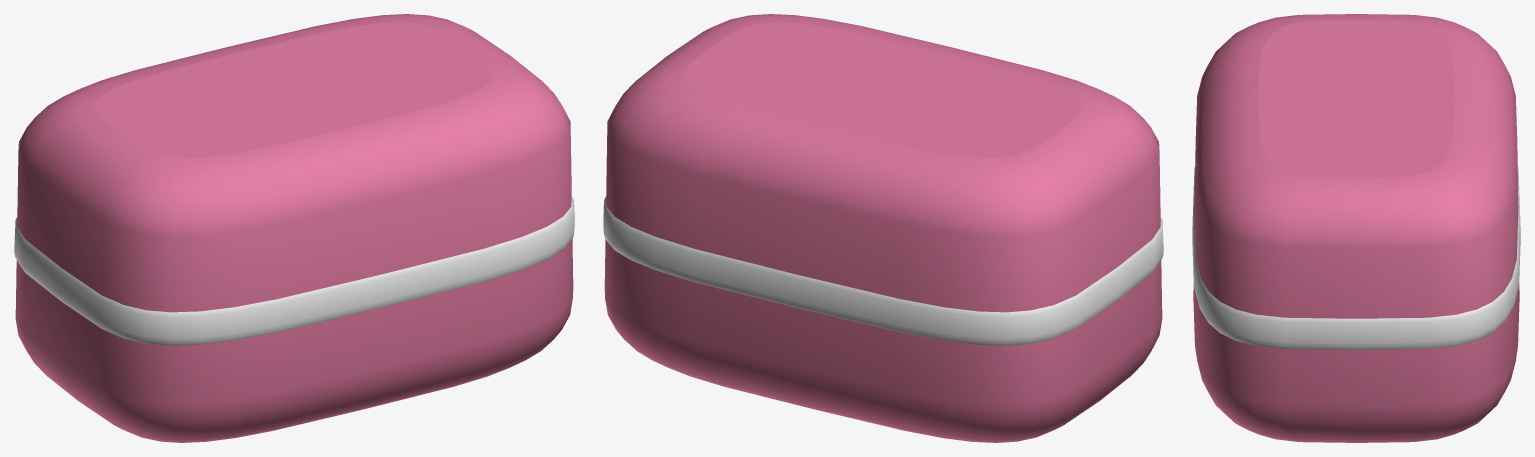
The model's file is absorventes_pacote.dae.
3 views of the same model, side by side, from view 1: azimuth 30°, elevation 25°; view 2: azimuth 150°, elevation 25°; view 3: azimuth 270°, elevation 25° (orthographic). The views are drawn at different scales.
Visible parts, largest first — view 1: Absorventes - pacote (×2); view 2: Absorventes - pacote (×2); view 3: Absorventes - pacote (×2).
Part boxes in pixels (x1,y1,x2,y2): Absorventes - pacote (×2): (14, 14, 574, 442); Absorventes - pacote (×2): (603, 14, 1163, 442); Absorventes - pacote (×2): (1192, 14, 1520, 442).
Size of the model in its own units: 125 by 80.6 by 70.
